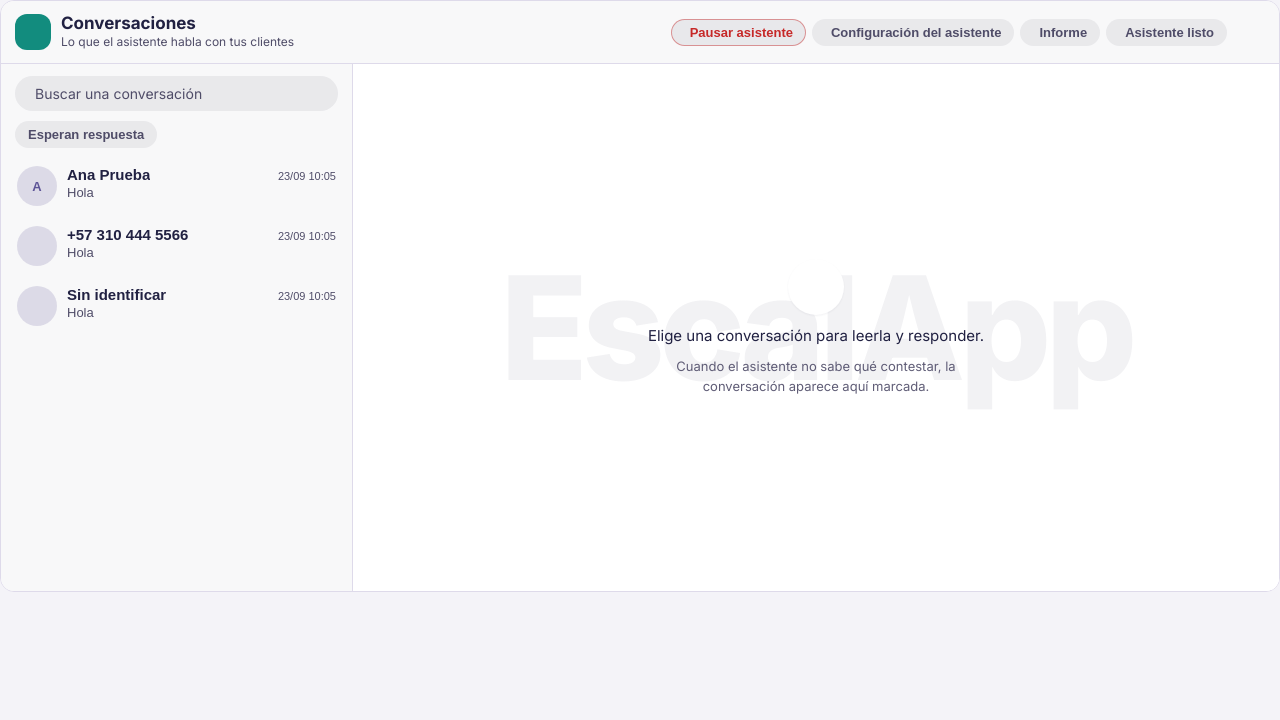
Test: Bandeja — pausa de emergencia del asistente › un clic lo pausa y aparece la franja
The width and height of the screenshot is (1280, 720).
Step 1. Click the button "Pausar asistente" → x=738, y=32, box [671, 19, 806, 46]
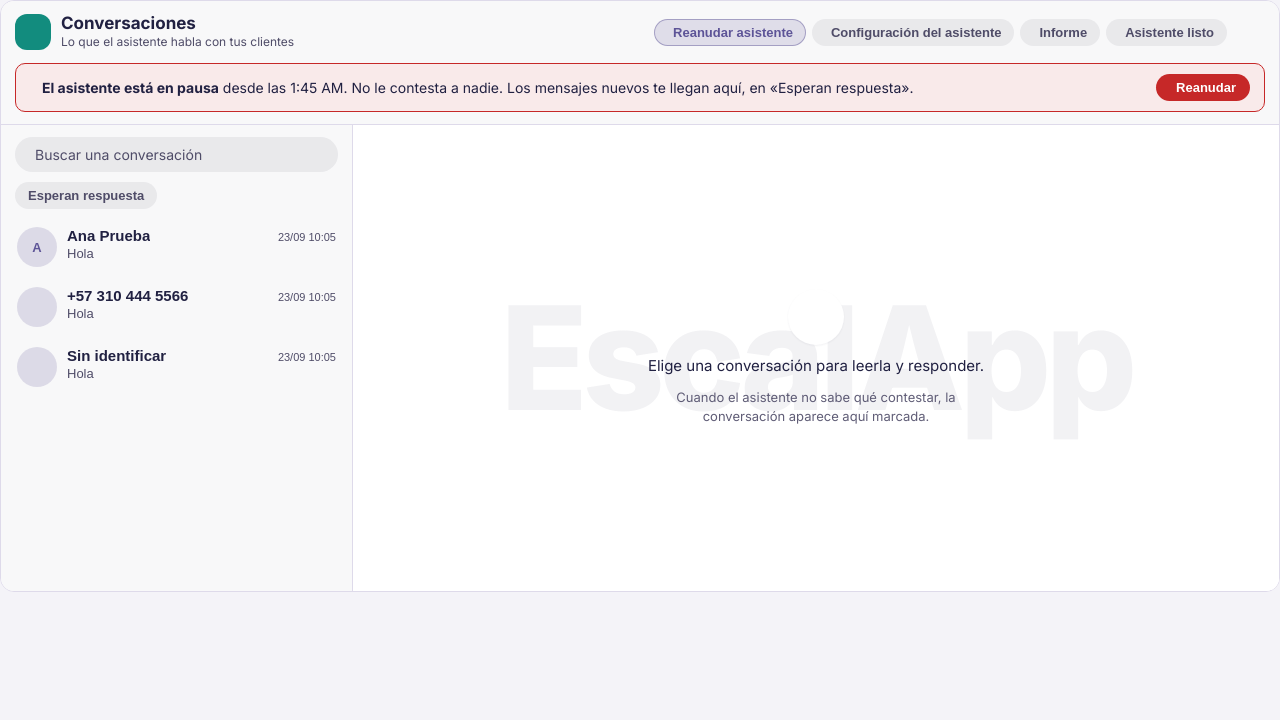
Expected: the message with class "bdj__pausa" shows "El asistente está en pausa", [42, 79, 219, 96]
Expected: the button "Reanudar asistente" is shown, [654, 19, 806, 46]
